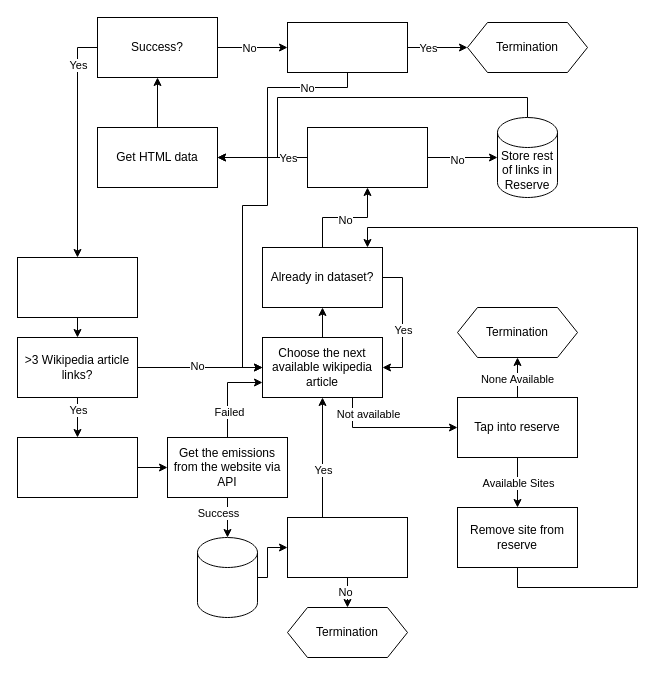
Image size: 663x675. Some labels were removed from this diagram. Here are the shapes that lost their labels. From the top down, the centre of each, then its label:
At (347,47): "Rate Limit?".
At (367,157): "Reserve size > 100?".
At (77,287): "Get all link elements from the site".
At (77,467): "Get the amount of image elements from the website".
At (347,547): "Data set length under required sample count?".
At (227,577): "Dataset".
